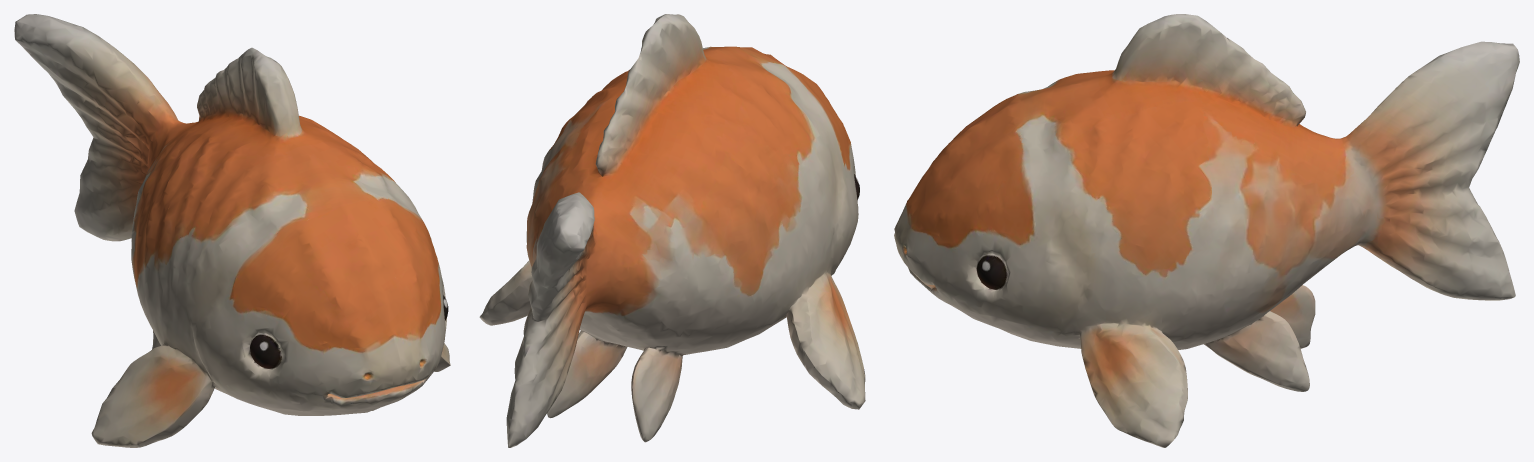
File: nat_fish_koi_v1.glb
3 views of the same model, side by side, from view 1: azimuth 30°, elevation 25°; view 2: azimuth 150°, elevation 25°; view 3: azimuth 270°, elevation 25° (orthographic). The views are drawn at different scales.
Visible parts, largest first — view 1: tripo_node_770e0e48-3d9c-4b09-9657-36ec8a8f3ebc; view 2: tripo_node_770e0e48-3d9c-4b09-9657-36ec8a8f3ebc; view 3: tripo_node_770e0e48-3d9c-4b09-9657-36ec8a8f3ebc.
Boxes of the visible parts, bbox=[...] form: tripo_node_770e0e48-3d9c-4b09-9657-36ec8a8f3ebc: bbox=[14, 14, 450, 447]; tripo_node_770e0e48-3d9c-4b09-9657-36ec8a8f3ebc: bbox=[479, 14, 865, 447]; tripo_node_770e0e48-3d9c-4b09-9657-36ec8a8f3ebc: bbox=[894, 14, 1519, 447].
Size of the model in its own units: 0.6554 by 0.618 by 0.9805.
Materials: 1 (1 with a texture image).
